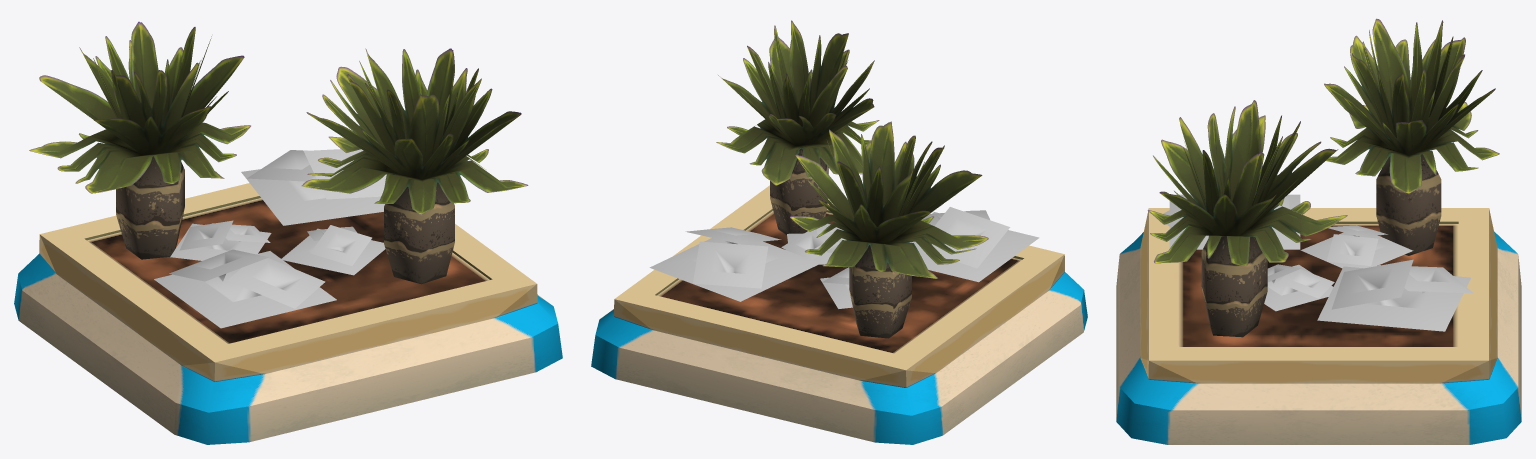
File: bac_fleur.fbx
The picture shows the model from 3 angles, left to right: view 1: azimuth 30°, elevation 25°; view 2: azimuth 150°, elevation 25°; view 3: azimuth 270°, elevation 25°; orthographic projection. The views are drawn at different scales.
Visible parts, largest first — view 1: polySurface4; view 2: polySurface4; view 3: polySurface4.
Part boxes in pixels (x1,y1,x2,y2): polySurface4: (14, 21, 562, 444); polySurface4: (591, 20, 1087, 444); polySurface4: (1116, 18, 1521, 444).
Bounding box in the file's own units: 1.84 × 1.28 × 1.73.
